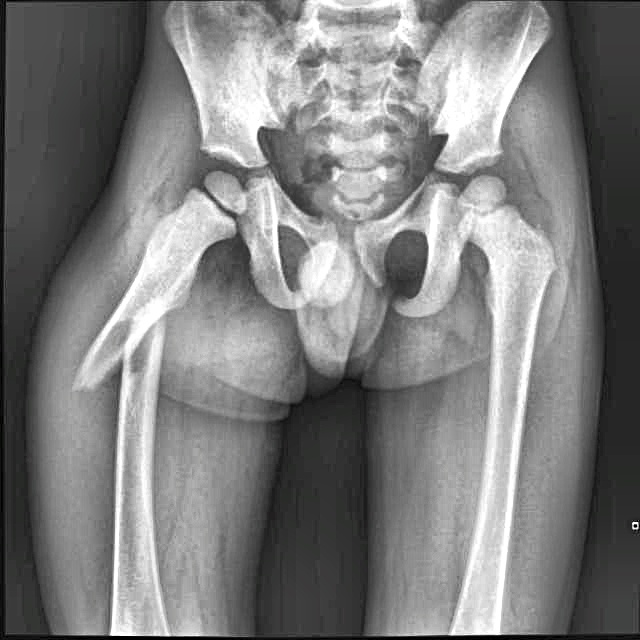Oblique: (71, 283, 183, 416)
